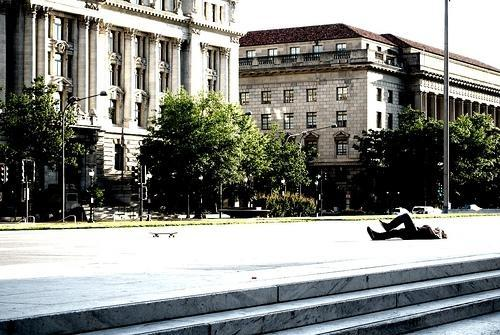car: (411, 206, 436, 214), (103, 210, 114, 221)
